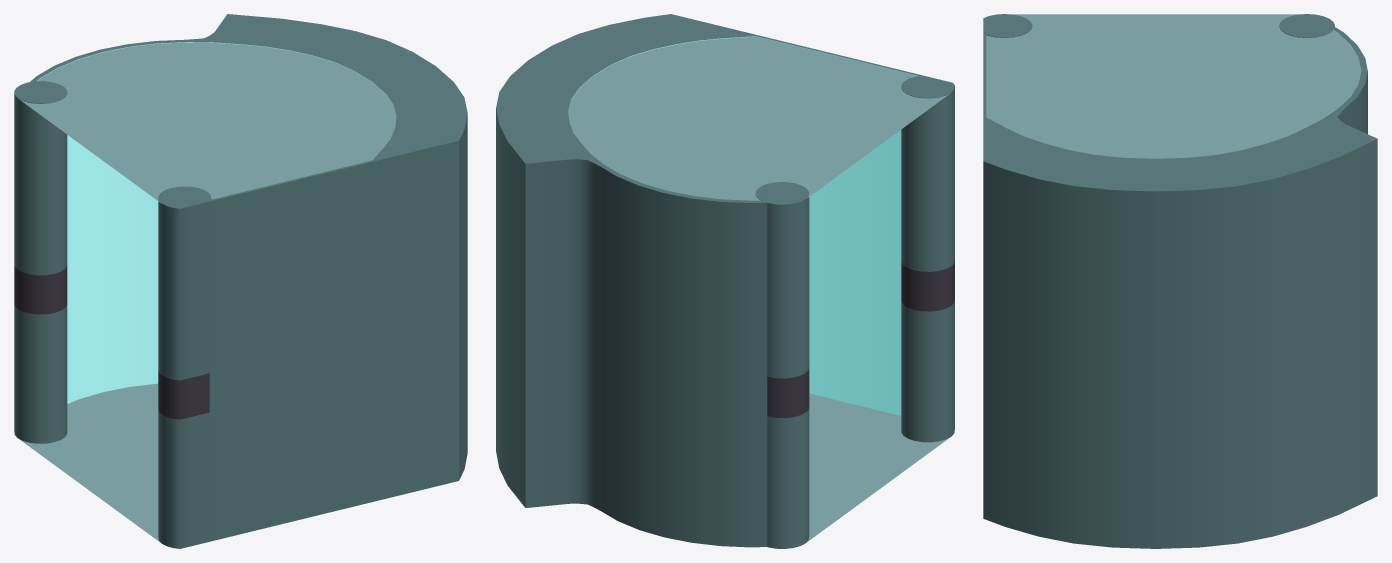
Rendered from EM_146_airlock_curved_wall.glb.
The picture shows the model from 3 angles, left to right: view 1: azimuth 30°, elevation 25°; view 2: azimuth 150°, elevation 25°; view 3: azimuth 270°, elevation 25°; orthographic projection. The views are drawn at different scales.
Visible parts, largest first — view 1: wall.002, floor.002; view 2: wall.002, floor.002; view 3: wall.002, floor.002.
Part boxes in pixels (box(x1,y1,x2,y2)): wall.002: box(14, 14, 467, 548); floor.002: box(18, 42, 396, 542); wall.002: box(496, 14, 954, 548); floor.002: box(568, 36, 950, 542); wall.002: box(983, 14, 1377, 548); floor.002: box(986, 14, 1361, 158).
Bounding box in the file's own units: 3.19 × 3 × 3.
